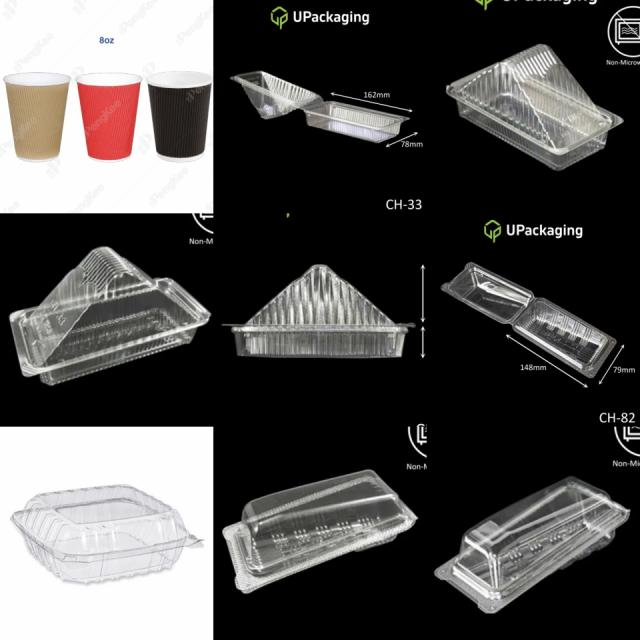Single-Use-Plastic: (10, 248, 210, 384), (435, 476, 630, 613), (222, 470, 416, 594), (446, 44, 622, 170), (441, 262, 615, 377), (11, 485, 201, 582), (231, 265, 409, 357), (231, 71, 405, 142), (4, 72, 70, 162), (76, 72, 142, 161), (148, 71, 212, 161)
